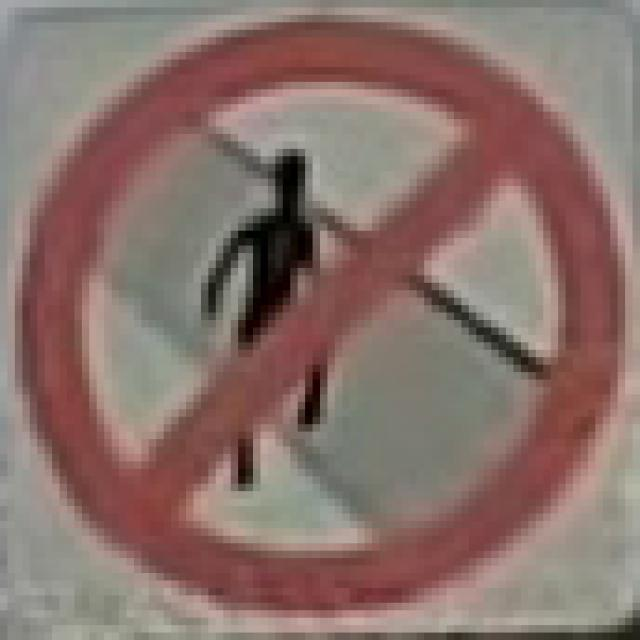nojaywalking_sign: (0, 0, 633, 625)
